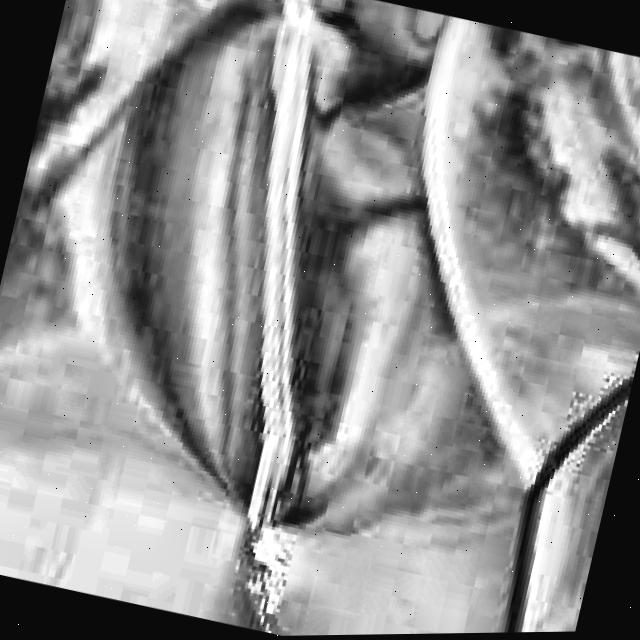door_dent: (40, 0, 397, 512), (219, 531, 304, 636)
